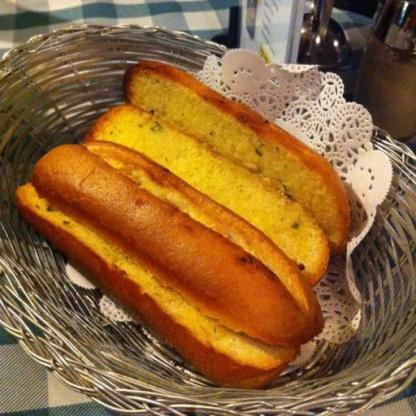toast bread: (30, 141, 322, 346), (13, 184, 301, 386), (84, 106, 329, 286), (124, 62, 350, 251)
